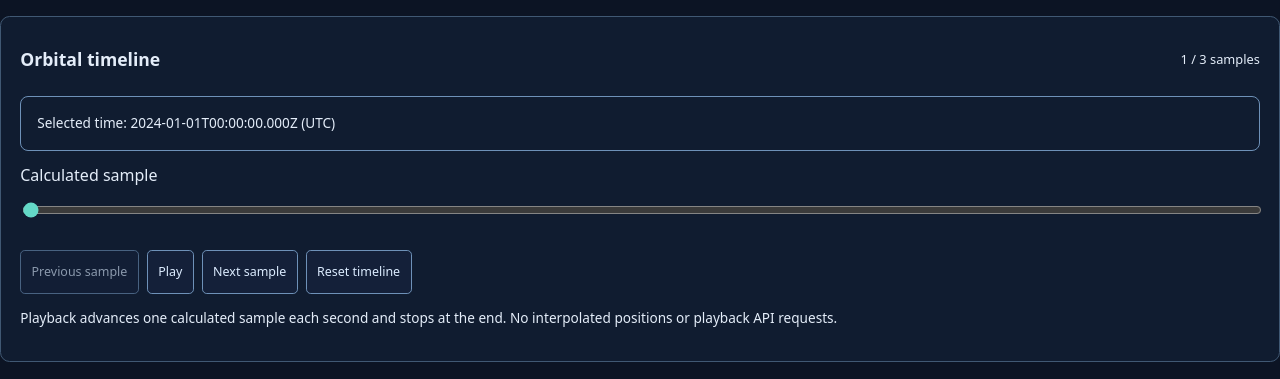
Test case: pauses playback, provides previous/next and reset controls
Click the button "Play" at (170, 272), box [147,250,194,294]
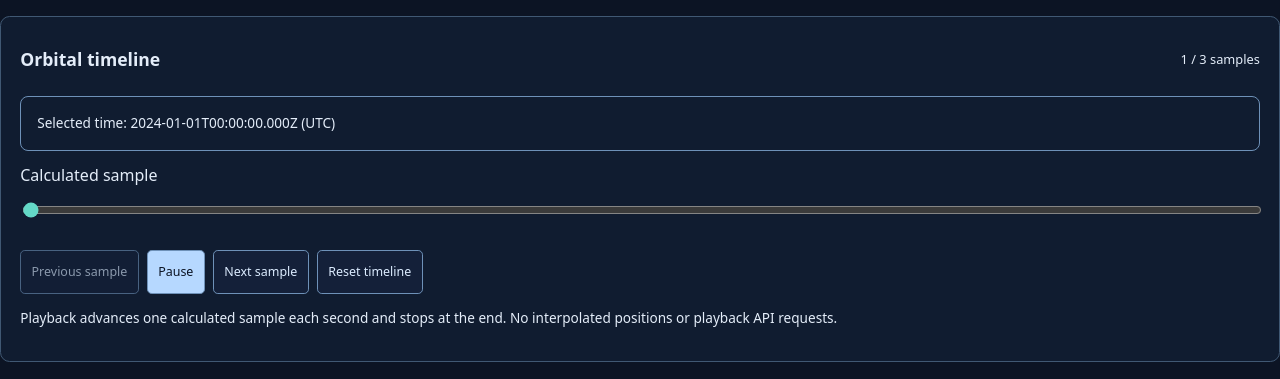
Click the button "Pause" at (176, 272), box [147,250,205,294]
Wait 3000 ms
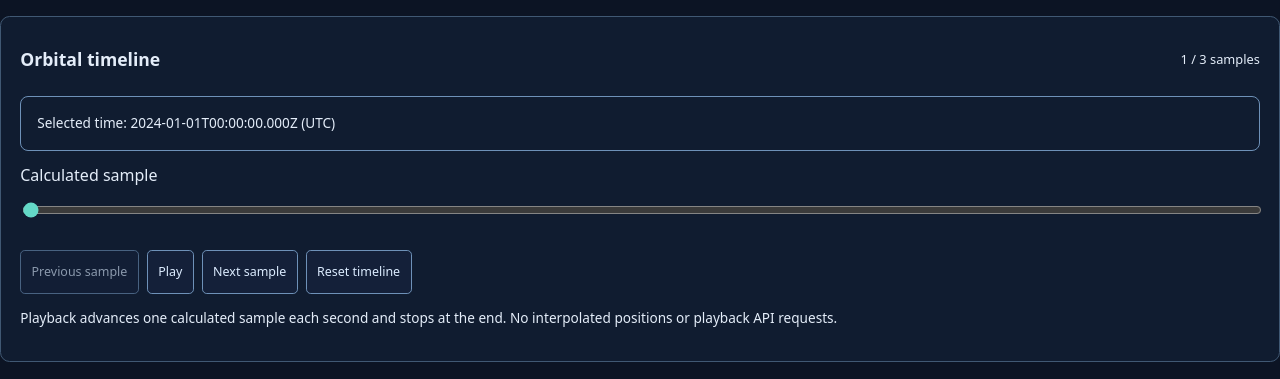
expect the slider holds "0": met, box [22,188,1262,232]
Click the button "Next sample" at (250, 272), box [202,250,298,294]
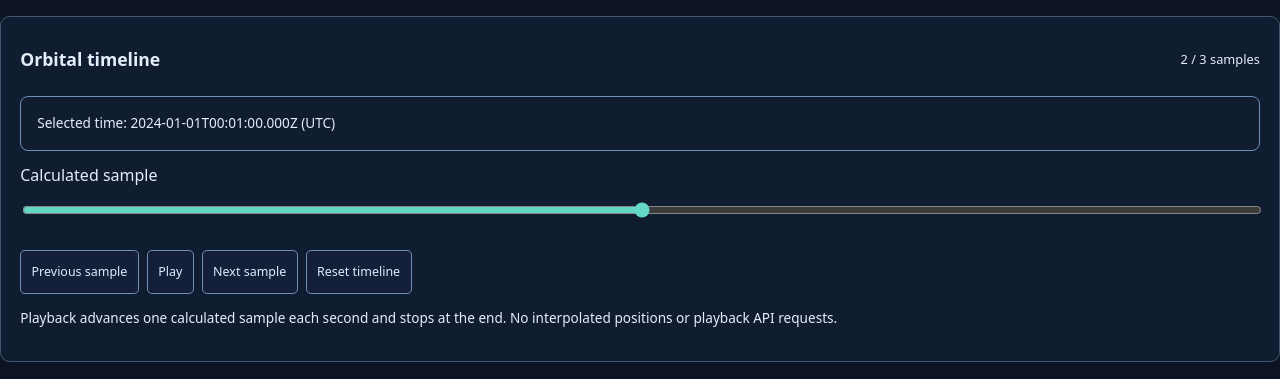
expect the slider holds "1": met, box [22,188,1262,232]
Click the button "Previous sample" at (80, 272), box [20,250,139,294]
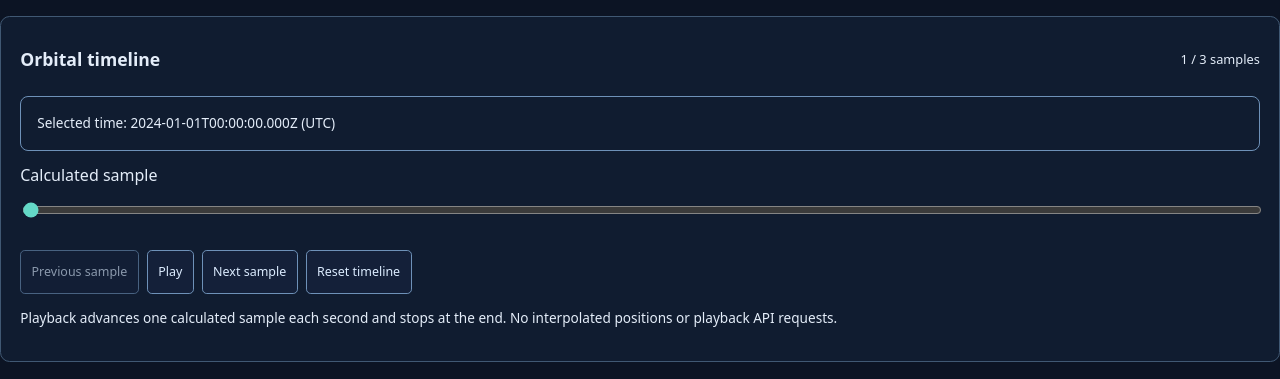
expect the slider holds "0": met
Set the slider to "2" at (1254, 210), box [22,188,1262,232]
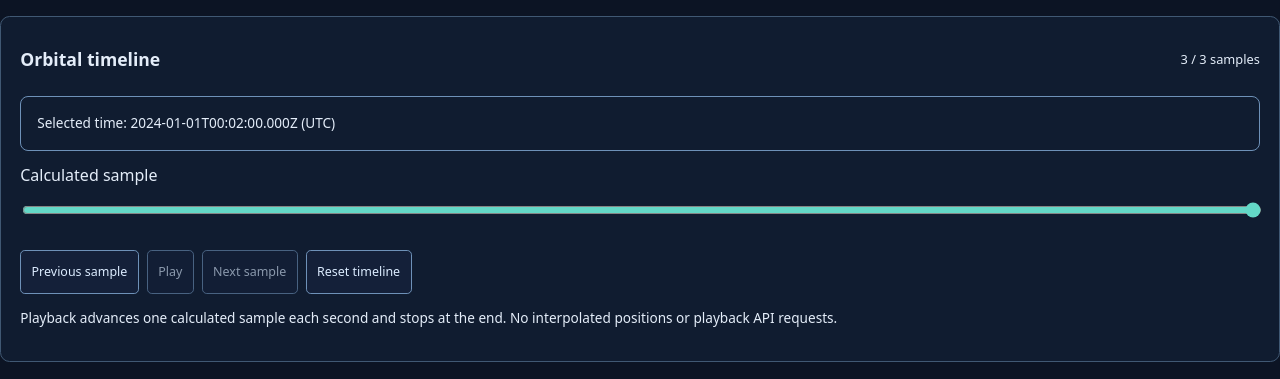
Click the button "Reset timeline" at (359, 272), box [306,250,412,294]
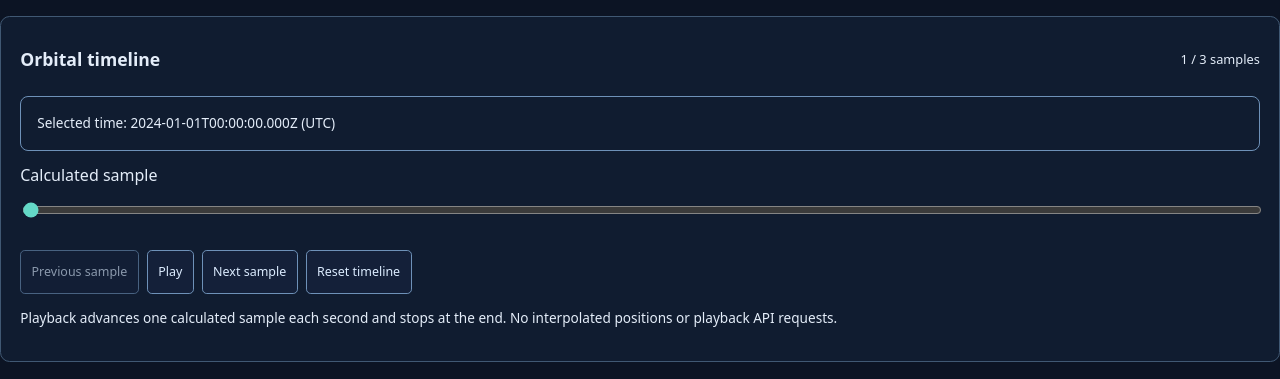
expect the slider holds "0": met, box [22,188,1262,232]
